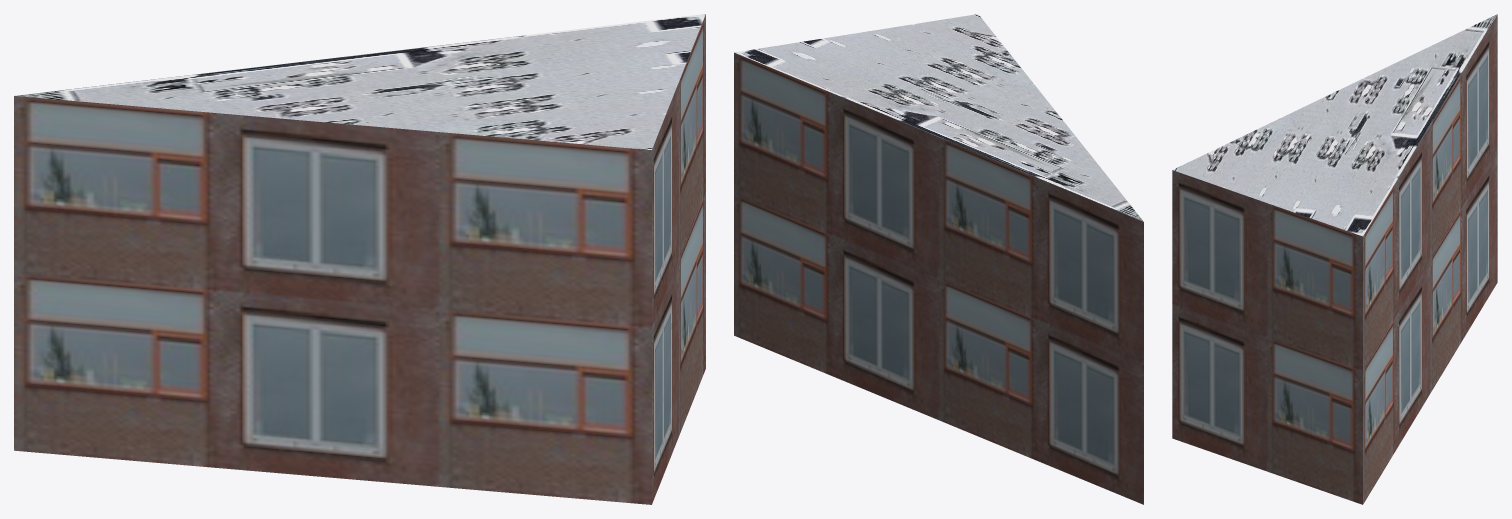
Rendered from ResTex__3476.fbx.
The picture shows the model from 3 angles, left to right: view 1: azimuth 30°, elevation 25°; view 2: azimuth 150°, elevation 25°; view 3: azimuth 270°, elevation 25°; orthographic projection. The views are drawn at different scales.
Visible parts, largest first — view 1: CityEngineMaterial_19_m, CityEngineMaterial_15_m; view 2: CityEngineMaterial_19_m, CityEngineMaterial_15_m; view 3: CityEngineMaterial_19_m, CityEngineMaterial_15_m.
Part boxes in pixels (left/top/right/bottom): CityEngineMaterial_19_m: left=14, top=14, right=705, bottom=504; CityEngineMaterial_15_m: left=15, top=14, right=705, bottom=149; CityEngineMaterial_19_m: left=734, top=52, right=1143, bottom=504; CityEngineMaterial_15_m: left=734, top=14, right=1143, bottom=221; CityEngineMaterial_19_m: left=1172, top=14, right=1497, bottom=504; CityEngineMaterial_15_m: left=1173, top=14, right=1497, bottom=236.
Bounding box in the file's own units: 10.67 × 6 × 6.59.
Materials: 2 (2 with a texture image).
